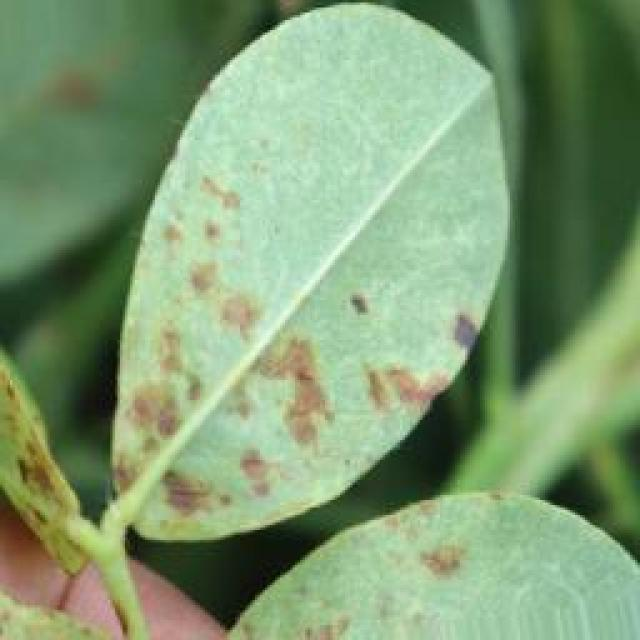Whitefly: (0, 112, 575, 640)
